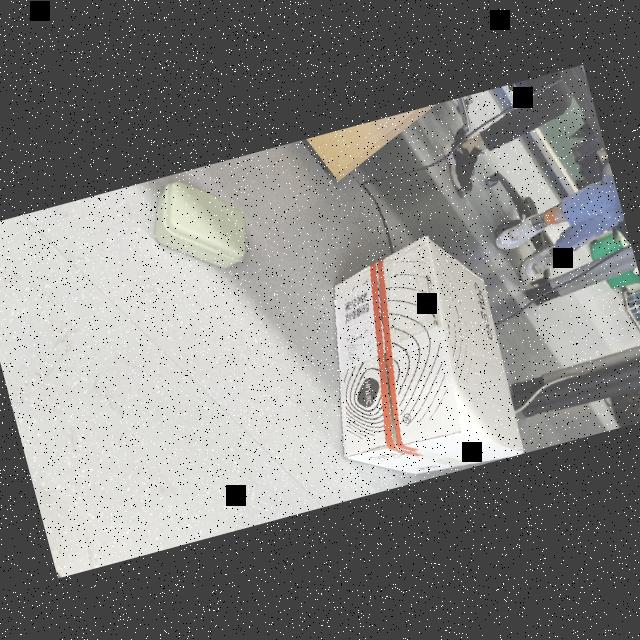cardboard_box: (276, 209, 552, 501), (105, 154, 276, 299)
